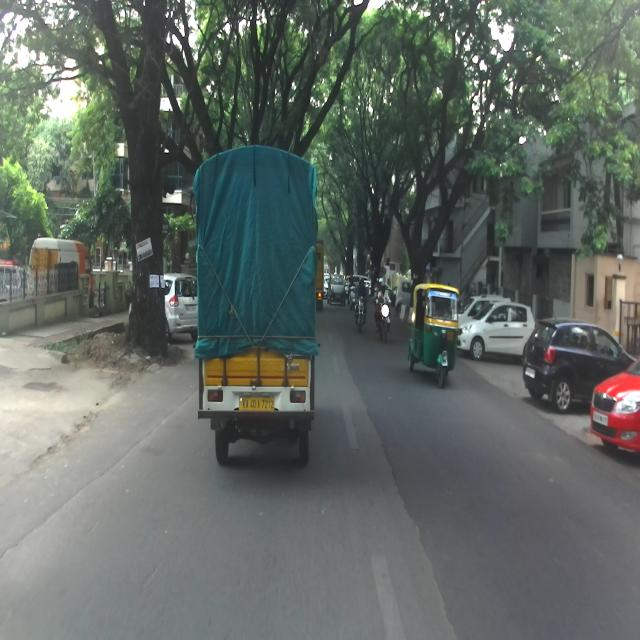auto ahead at: (407, 277, 461, 384)
car ahead at: (194, 139, 326, 474), (525, 317, 591, 415)
tree ahead at: (109, 66, 180, 366)
